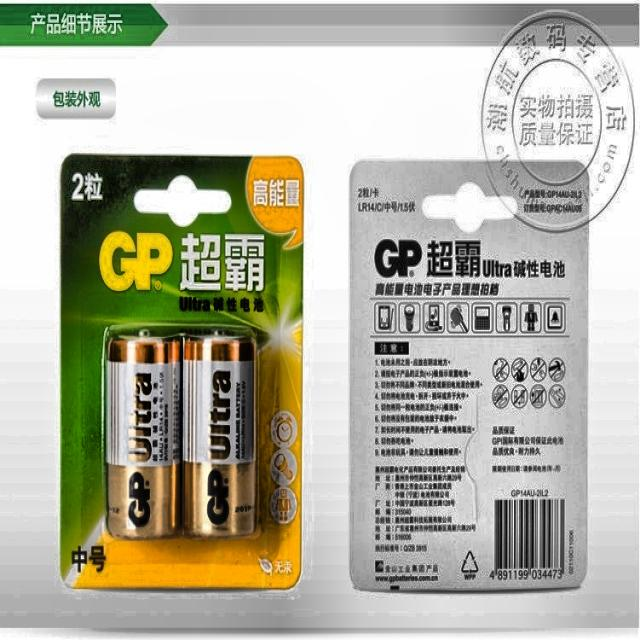Non-Valuable Waste - Batteries: (105, 337, 181, 539), (182, 337, 255, 538)
